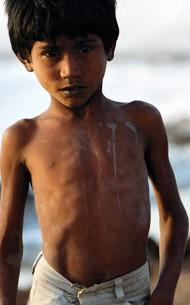Stunting: (0, 0, 120, 124)
